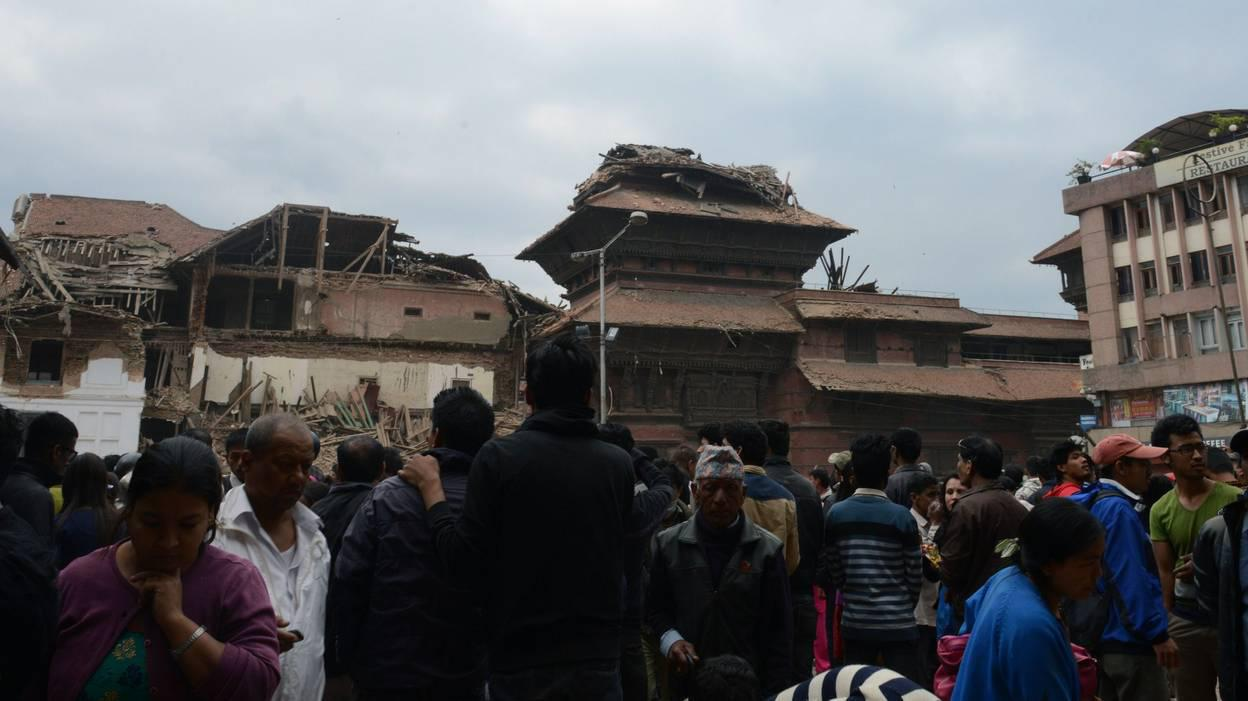destroyed: (0, 189, 509, 456)
major: (520, 119, 1090, 457)
